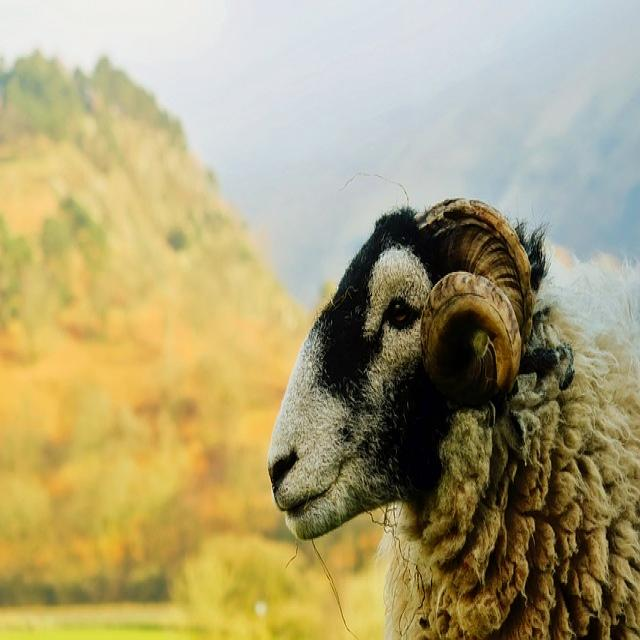goat: (265, 198, 640, 640)
